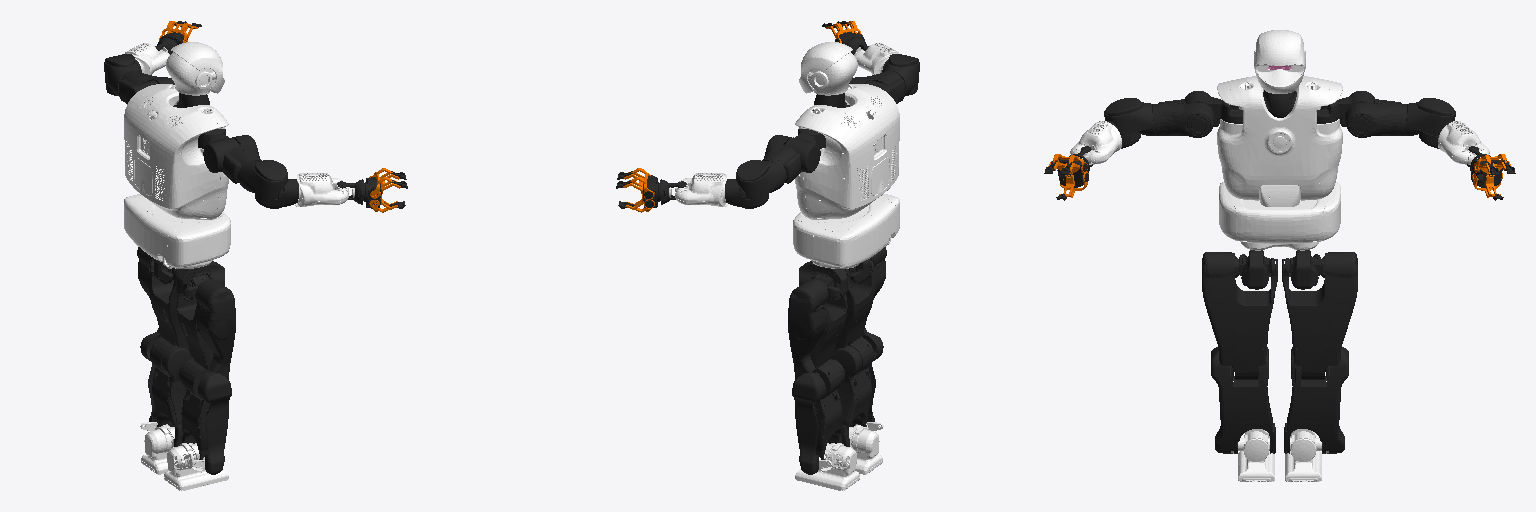
--- What the picture shows (computed from the rendered views, not written in the file) ---
Views: 3 orthographic renders of the robot side by side, from view 1: azimuth 30°, elevation 25°; view 2: azimuth 150°, elevation 25°; view 3: azimuth 270°, elevation 25°.
Robot: talos — 60 links, 59 joints (44 revolute, 15 fixed); root link base_link; default pose: joints at zero except 4 at the middle of their limits (arm_left_2_joint = 1.44, arm_left_4_joint = -1.12, arm_right_2_joint = -1.44, arm_right_4_joint = -1.12).
Links seen in each view (by area): view 1: torso_2_link, base_link, leg_right_3_link, leg_right_4_link, leg_left_4_link, leg_left_3_link, head_2_link, leg_right_6_link, arm_right_3_link, arm_right_5_link, arm_right_1_link, leg_left_6_link (+6 smaller); view 2: torso_2_link, base_link, leg_left_3_link, leg_left_4_link, leg_right_4_link, leg_right_3_link, head_2_link, leg_left_6_link, arm_left_3_link, arm_left_5_link, arm_left_1_link, leg_right_6_link (+6 smaller); view 3: torso_2_link, leg_right_3_link, leg_left_3_link, base_link, leg_left_4_link, leg_right_4_link, head_2_link, arm_left_2_link, arm_right_2_link, arm_left_3_link, arm_right_3_link, leg_left_6_link (+9 smaller).
Link boxes in pixels (x1,y1,x2,y2): torso_2_link: (124, 84, 228, 219); base_link: (124, 194, 230, 268); leg_right_3_link: (176, 279, 235, 398); leg_right_4_link: (179, 358, 231, 474); leg_left_4_link: (140, 332, 192, 446); leg_left_3_link: (137, 247, 189, 374); head_2_link: (166, 42, 224, 95); leg_right_6_link: (164, 443, 228, 490); arm_right_3_link: (239, 160, 287, 199); arm_right_5_link: (295, 173, 348, 206); arm_right_1_link: (198, 129, 238, 172); leg_left_6_link: (141, 426, 171, 474); torso_2_link: (795, 84, 899, 219); base_link: (793, 194, 899, 268); leg_left_3_link: (788, 279, 847, 398); leg_left_4_link: (792, 358, 844, 474); leg_right_4_link: (831, 332, 883, 446); leg_right_3_link: (835, 247, 886, 374); head_2_link: (799, 42, 857, 95); leg_left_6_link: (795, 443, 859, 490); arm_left_3_link: (736, 160, 784, 198); arm_left_5_link: (675, 173, 728, 206); arm_left_1_link: (785, 129, 825, 172); leg_right_6_link: (852, 426, 882, 474); torso_2_link: (1217, 76, 1342, 200); leg_right_3_link: (1202, 252, 1277, 379); leg_left_3_link: (1282, 252, 1357, 379); base_link: (1219, 182, 1340, 250); leg_left_4_link: (1284, 347, 1348, 453); leg_right_4_link: (1211, 347, 1275, 453); head_2_link: (1254, 30, 1305, 93); arm_left_2_link: (1345, 99, 1406, 137); arm_right_2_link: (1153, 99, 1214, 137); arm_left_3_link: (1404, 98, 1455, 135); arm_right_3_link: (1104, 98, 1155, 135); leg_left_6_link: (1285, 429, 1321, 481).
Size in the robot's own frame: 0.7079 by 1.7 by 1.76 metres.
Meshes: 25 distinct files referenced, 48 mesh visuals loaded (25 Collada DAE).

The robot description file, URDF, robot "talos":
<?xml version="1.0" encoding="utf-8"?>
<!-- =================================================================================== -->
<!-- |    This document was autogenerated by xacro from talos_full_v2.urdf.xacro       | -->
<!-- |    EDITING THIS FILE BY HAND IS NOT RECOMMENDED                                 | -->
<!-- =================================================================================== -->
<!--

  Copyright (c) 2016, PAL Robotics, S.L.
  All rights reserved.

  This work is licensed under the Creative Commons Attribution-NonCommercial-NoDerivs 3.0 Unported License.
  To view a copy of this license, visit http://creativecommons.org/licenses/by-nc-nd/3.0/ or send a letter to
  Creative Commons, 444 Castro Street, Suite 900, Mountain View, California, 94041, USA.
-->
<robot name="talos" xmlns:controller="http://playerstage.sourceforge.net/gazebo/xmlschema/#controller" xmlns:interface="http://playerstage.sourceforge.net/gazebo/xmlschema/#interface" xmlns:sensor="http://playerstage.sourceforge.net/gazebo/xmlschema/#sensor">
  <!--************************-->
  <!--        TORSO_2  (TILT) -->
  <!--************************-->
  <link name="torso_2_link">
    <inertial>
      <mass value="16.97403"/>
      <inertia ixx="0.44372633826" ixy="0.00069132133" ixz="-0.01218206353" iyy="0.2998576068" iyz="-0.00019623338" izz="0.32201554742"/>
      <origin rpy="0 0 0" xyz="-0.0463563 -0.00099023 0.1452805"/>
    </inertial>
    <visual>
      <origin rpy="0 0 0" xyz="0 0 0"/>
      <geometry>
        <mesh filename="package://talos_description/meshes/torso/torso_2.dae" scale="1 1 1"/>
      </geometry>
      <material name="White"/>
    </visual>
    <collision>
      <origin rpy="0 0 0" xyz="0 0 0"/>
      <geometry>
        <mesh filename="package://talos_description/meshes/torso/torso_2_collision.dae" scale="1 1 1"/>
      </geometry>
    </collision>
  </link>
  <!--************************-->
  <!--        TORSO_1  (PAN)  -->
  <!--************************-->
  <link name="torso_1_link">
    <inertial>
      <mass value="2.294658"/>
      <inertia ixx="0.00638508087" ixy="-7.107e-08" ixz="-3.065592e-05" iyy="0.00410256102" iyz="-1.46946e-06" izz="0.00622968815"/>
      <origin rpy="0 0 0" xyz="0.00078223 3.528e-05 -0.01782457"/>
    </inertial>
    <visual>
      <origin rpy="0 0 0" xyz="0 0 0"/>
      <geometry>
        <mesh filename="package://talos_description/meshes/torso/torso_1.dae" scale="1 1 1"/>
      </geometry>
      <material name="White"/>
    </visual>
    <collision>
      <origin rpy="0 0 0" xyz="0 0 0"/>
      <geometry>
        <mesh filename="package://talos_description/meshes/torso/torso_1.dae" scale="1 1 1"/>
      </geometry>
    </collision>
  </link>
  <joint name="torso_1_joint" type="revolute">
    <parent link="base_link"/>
    <child link="torso_1_link"/>
    <!-- XXX AS: The kinematic chain order for the torso was reversed manually. This value does not match the CAD model. XXX -->
    <origin rpy="0.0 0.0 0.0" xyz="0.0 0.0 0.0722"/>
    <axis xyz="0 0 1"/>
    <limit effort="200.0" lower="-1.25663706144" upper="1.25663706144" velocity="5.4"/>
    <dynamics damping="1.0" friction="1.0"/>
    <!-- <safety_controller k_position="20"
                         k_velocity="20"
                         soft_lower_limit="${-15.0 * deg_to_rad + torso_eps}"
                         soft_upper_limit="${ 45.0 * deg_to_rad - torso_eps}" /> -->
  </joint>
  <!--************************-->
  <!--        BASE_LINK       -->
  <!--************************-->
  <link name="base_link">
    <inertial>
      <mass value="15.36284"/>
      <inertia ixx="0.20105075811" ixy="0.00023244734" ixz="0.0040167728" iyy="0.08411496729" iyz="-0.00087206649" izz="0.2318908414"/>
      <origin rpy="0 0 0" xyz="-0.05709419 0.00153054 -0.0762521"/>
    </inertial>
    <visual>
      <origin rpy="0 0 0" xyz="0 0 0"/>
      <geometry>
        <mesh filename="package://talos_description/meshes/torso/base_link.dae" scale="1 1 1"/>
      </geometry>
      <material name="White"/>
    </visual>
    <collision>
      <origin rpy="0 0 0" xyz="0 0 0"/>
      <geometry>
        <mesh filename="package://talos_description/meshes/torso/base_link_collision.dae" scale="1 1 1"/>
      </geometry>
    </collision>
  </link>
  <joint name="torso_2_joint" type="revolute">
    <parent link="torso_1_link"/>
    <child link="torso_2_link"/>
    <origin rpy="0.0 0.0 0.0" xyz="0.0 0.0 0.0"/>
    <axis xyz="0 1 0"/>
    <limit effort="200.0" lower="-0.226892802759" upper="0.733038285838" velocity="5.4"/>
    <dynamics damping="1.0" friction="1.0"/>
    <!-- <safety_controller k_position="20"
                          k_velocity="20"
                          soft_lower_limit="${-75.00000 * deg_to_rad + eps_radians}"
                          soft_upper_limit="${75.00000 * deg_to_rad - eps_radians}" /> -->
  </joint>
  <link name="imu_link">
    <inertial>
      <mass value="0.01"/>
      <inertia ixx="1e-06" ixy="0" ixz="0" iyy="1e-06" iyz="0" izz="1e-06"/>
      <origin rpy="0 0 0" xyz="0 0 0"/>
    </inertial>
    <visual>
      <origin rpy="0 0 0" xyz="0 0 0"/>
      <geometry>
        <box size="0.01 0.01 0.01"/>
      </geometry>
      <material name="White"/>
      <!-- Not sure about this -->
    </visual>
  </link>
  <joint name="imu_joint" type="fixed">
    <origin rpy="3.14159265359 0 1.57079632679" xyz="0.04925 0 0.078"/>
    <parent link="torso_2_link"/>
    <child link="imu_link"/>
  </joint>
  <link name="head_1_link">
    <inertial>
      <mass value="0.73746"/>
      <inertia ixx="0.00224878584" ixy="4.69375e-06" ixz="8.55557e-05" iyy="0.00111158492" iyz="-4.132536e-05" izz="0.00205225921"/>
      <origin rpy="0 0 0" xyz="-0.00157211 -0.00157919 0.02175767"/>
    </inertial>
    <visual>
      <origin rpy="0 0 0" xyz="0 0 0"/>
      <geometry>
        <mesh filename="package://talos_description/meshes/head/head_1.dae" scale="1 1 1"/>
      </geometry>
      <material name="DarkGrey"/>
    </visual>
    <collision>
      <origin rpy="0 0 0" xyz="0 0 0"/>
      <geometry>
        <mesh filename="package://talos_description/meshes/head/head_1_collision.dae" scale="1 1 1"/>
      </geometry>
    </collision>
  </link>
  <joint name="head_1_joint" type="revolute">
    <parent link="torso_2_link"/>
    <child link="head_1_link"/>
    <origin rpy="0.0 0.0 0.0" xyz="0.02000 0.00000 0.32100"/>
    <axis xyz="0 1 0"/>
    <limit effort="8.0" lower="-0.209439510239" upper="0.785398163397" velocity="3.0"/>
    <dynamics damping="0.5" friction="1.0"/>
    <!-- <safety_controller k_position="20"
                          k_velocity="20"
                          soft_lower_limit="${-15.00000 * deg_to_rad + eps_radians}"
                          soft_upper_limit="${45.00000 * deg_to_rad - eps_radians}" /> -->
  </joint>
  <link name="head_2_link">
    <inertial>
      <mass value="1.443954"/>
      <inertia ixx="0.01084624339" ixy="1.050889e-05" ixz="0.00041594252" iyy="0.0109569176" iyz="2.367831e-05" izz="0.00571698895"/>
      <origin rpy="0 0 0" xyz="0.01002657 5.218e-05 0.14136068"/>
    </inertial>
    <visual>
      <origin rpy="0 0 0" xyz="0 0 0"/>
      <geometry>
        <mesh filename="package://talos_description/meshes/head/head_2.dae" scale="1 1 1"/>
      </geometry>
      <material name="White"/>
    </visual>
    <collision>
      <origin rpy="0 0 0" xyz="0 0 0"/>
      <geometry>
        <mesh filename="package://talos_description/meshes/head/head_2_collision.dae" scale="1 1 1"/>
      </geometry>
    </collision>
  </link>
  <joint name="head_2_joint" type="revolute">
    <parent link="head_1_link"/>
    <child link="head_2_link"/>
    <origin rpy="0.0 0.0 0.0" xyz="0.00000 0.00000 0.00000"/>
    <axis xyz="0 0 1"/>
    <limit effort="4.0" lower="-1.308996939" upper="1.308996939" velocity="3.0"/>
    <dynamics damping="0.5" friction="1.0"/>
    <!-- <safety_controller k_position="20"
                          k_velocity="20"
                          soft_lower_limit="${-75.00000 * deg_to_rad + eps_radians}"
                          soft_upper_limit="${75.00000 * deg_to_rad - eps_radians}" /> -->
  </joint>
  <!-- frames in the center of the camera -->
  <joint name="rgbd_joint" type="fixed">
    <origin rpy="0.0 0.0 0.0" xyz="0.066 0.0 0.1982"/>
    <axis xyz="0 0 1"/>
    <!-- <limit lower="0" upper="0.001" effort="100" velocity="0.01"/> -->
    <parent link="head_2_link"/>
    <child link="rgbd_link"/>
  </joint>
  <link name="rgbd_link">
    <inertial>
      <mass value="0.01"/>
      <inertia ixx="3e-05" ixy="0" ixz="0" iyy="2e-06" iyz="0" izz="3e-05"/>
      <origin rpy="0 0 0" xyz="-0.01 0.0025 0"/>
    </inertial>
    <visual>
      <origin rpy="0 0 0" xyz="0 0 0"/>
      <geometry>
        <mesh filename="package://talos_description/meshes/sensors/orbbec/orbbec.dae"/>
      </geometry>
    </visual>
    <collision>
      <origin rpy="0 0 0" xyz="-0.01 0.0025 0"/>
      <geometry>
        <box size="0.04 0.185 0.03"/>
      </geometry>
    </collision>
  </link>
  <joint name="rgbd_optical_joint" type="fixed">
    <origin rpy="-1.57079632679 0 -1.57079632679" xyz="0 0 0"/>
    <parent link="rgbd_link"/>
    <child link="rgbd_optical_frame"/>
  </joint>
  <link name="rgbd_optical_frame">
    <inertial>
      <mass value="0.01"/>
      <inertia ixx="1e-06" ixy="0" ixz="0" iyy="1e-06" iyz="0" izz="1e-06"/>
      <origin rpy="0 0 0" xyz="0 0 0"/>
    </inertial>
  </link>
  <!-- frames of the depth sensor -->
  <joint name="rgbd_depth_joint" type="fixed">
    <origin rpy="0 0 0" xyz="0.0 0.03751 0.0"/>
    <parent link="rgbd_link"/>
    <child link="rgbd_depth_frame"/>
  </joint>
  <link name="rgbd_depth_frame">
    <inertial>
      <mass value="0.01"/>
      <inertia ixx="1e-06" ixy="0" ixz="0" iyy="1e-06" iyz="0" izz="1e-06"/>
      <origin rpy="0 0 0" xyz="0 0 0"/>
    </inertial>
  </link>
  <joint name="rgbd_depth_optical_joint" type="fixed">
    <origin rpy="-1.57079632679 0.0 -1.57079632679" xyz="0 0 0"/>
    <parent link="rgbd_depth_frame"/>
    <child link="rgbd_depth_optical_frame"/>
  </joint>
  <link name="rgbd_depth_optical_frame">
    <inertial>
      <mass value="0.01"/>
      <inertia ixx="1e-06" ixy="0" ixz="0" iyy="1e-06" iyz="0" izz="1e-06"/>
      <origin rpy="0 0 0" xyz="0 0 0"/>
    </inertial>
  </link>
  <!-- frames of the rgb sensor -->
  <joint name="rgbd_rgb_joint" type="fixed">
    <origin rpy="0 0 0" xyz="0.0 0.01251 0.0"/>
    <parent link="rgbd_link"/>
    <child link="rgbd_rgb_frame"/>
  </joint>
  <link name="rgbd_rgb_frame">
    <inertial>
      <mass value="0.01"/>
      <inertia ixx="1e-06" ixy="0" ixz="0" iyy="1e-06" iyz="0" izz="1e-06"/>
      <origin rpy="0 0 0" xyz="0 0 0"/>
    </inertial>
  </link>
  <joint name="rgbd_rgb_optical_joint" type="fixed">
    <origin rpy="-1.57079632679 0.0 -1.57079632679" xyz="0 0 0"/>
    <parent link="rgbd_rgb_frame"/>
    <child link="rgbd_rgb_optical_frame"/>
  </joint>
  <link name="rgbd_rgb_optical_frame">
    <inertial>
      <mass value="0.01"/>
      <inertia ixx="1e-06" ixy="0" ixz="0" iyy="1e-06" iyz="0" izz="1e-06"/>
      <origin rpy="0 0 0" xyz="0 0 0"/>
    </inertial>
  </link>
  <!--************************-->
  <!--        SHOULDER        -->
  <!--************************-->
  <link name="arm_left_1_link">
    <inertial>
      <mass value="2.714567"/>
      <inertia ixx="0.01237818683" ixy="-3.625571e-05" ixz="7.14472e-05" iyy="0.004191372" iyz="-0.00023639064" izz="0.01358161109"/>
      <origin rpy="0 0 0" xyz="-0.0002762 0.10060223 0.04437419"/>
    </inertial>
    <visual>
      <origin rpy="0 0 0" xyz="0 0 0"/>
      <geometry>
        <mesh filename="package://talos_description/meshes/arm/arm_1.dae" scale="1 1 1"/>
      </geometry>
      <material name="DarkGrey"/>
    </visual>
    <collision>
      <origin rpy="0 0 0" xyz="0 0 0"/>
      <geometry>
        <mesh filename="package://talos_description/meshes/arm/arm_1_collision.dae" scale="1 1 1"/>
      </geometry>
    </collision>
  </link>
  <joint name="arm_left_1_joint" type="revolute">
    <parent link="torso_2_link"/>
    <child link="arm_left_1_link"/>
    <origin rpy="0.0 0.0 0.0" xyz="0.00000 0.1575 0.23200"/>
    <axis xyz="0 0 1"/>
    <!-- v1 TALOS has 1st arm left joint (-90,30) and right joint (-30,90) -->
    <!-- v2 TALOS has 1st arm left joint (-90,50) and right joint (-50,90) -->
    <limit effort="100.0" lower="-1.57079632679" upper="0.785398163397" velocity="2.7"/>
    <dynamics damping="1.0" friction="1.0"/>
    <!--        <safety_controller k_position="20"
                          k_velocity="20"
                          soft_lower_limit="${-90.00000 * deg_to_rad + arm_eps}"
                          soft_upper_limit="${30.00000 * deg_to_rad - arm_eps}" /> -->
  </joint>
  <link name="arm_left_2_link">
    <inertial>
      <mass value="2.425086"/>
      <inertia ixx="0.01297822101" ixy="1.208791e-05" ixz="-0.00320370433" iyy="0.01380870278" iyz="-0.00012770059" izz="0.00478856621"/>
      <origin rpy="0 0 0" xyz="0.01438831 0.00092938 -0.08684268"/>
    </inertial>
    <visual>
      <origin rpy="0 0 0" xyz="0 0 0"/>
      <geometry>
        <mesh filename="package://talos_description/meshes/arm/arm_2.dae" scale="1 1 1"/>
      </geometry>
      <material name="DarkGrey"/>
    </visual>
    <collision>
      <origin rpy="0 0 0" xyz="0 0 0"/>
      <geometry>
        <mesh filename="package://talos_description/meshes/arm/arm_2_collision.dae" scale="1 1 1"/>
      </geometry>
    </collision>
  </link>
  <joint name="arm_left_2_joint" type="revolute">
    <parent link="arm_left_1_link"/>
    <child link="arm_left_2_link"/>
    <origin rpy="0.0 0.0 0.0" xyz="0.00493 0.1365 0.04673"/>
    <axis xyz="1 0 0"/>
    <limit effort="100.0" lower="0.00872664625997" upper="2.87106661953" velocity="3.66"/>
    <dynamics damping="1.0" friction="1.0"/>
    <!--        <safety_controller k_position="20"
                          k_velocity="20"
                          soft_lower_limit="${0.00000 * deg_to_rad + arm_eps}"
                          soft_upper_limit="${165.00000 * deg_to_rad - arm_eps}" /> -->
  </joint>
  <link name="arm_left_3_link">
    <inertial>
      <mass value="2.208741"/>
      <inertia ixx="0.00718831493" ixy="-0.00011563551" ixz="0.00075969733" iyy="0.00693528503" iyz="0.00042134743" izz="0.00388359007"/>
      <origin rpy="0 0 0" xyz="0.0136084 0.01241619 -0.2499004"/>
    </inertial>
    <visual>
      <origin rpy="0 0 0" xyz="0 0 0"/>
      <geometry>
        <mesh filename="package://talos_description/meshes/arm/arm_3.dae" scale="1 1 1"/>
      </geometry>
      <material name="DarkGrey"/>
    </visual>
    <collision>
      <origin rpy="0 0 0" xyz="0 0 0"/>
      <geometry>
        <mesh filename="package://talos_description/meshes/arm/arm_3_collision.dae" scale="1 1 1"/>
      </geometry>
    </collision>
  </link>
  <joint name="arm_left_3_joint" type="revolute">
    <parent link="arm_left_2_link"/>
    <child link="arm_left_3_link"/>
    <origin rpy="0.0 0.0 0.0" xyz="0.00000 0.00000 0.00000"/>
    <axis xyz="0 0 1"/>
    <limit effort="70.0" lower="-2.42600766027" upper="2.42600766027" velocity="4.58"/>
    <dynamics damping="1.0" friction="1.0"/>
    <!--       <safety_controller k_position="20"
                          k_velocity="20"
                          soft_lower_limit="${-140.0 * deg_to_rad + arm_eps}"
                          soft_upper_limit="${140.0 * deg_to_rad - arm_eps}" /> -->
  </joint>
  <!--************************-->
  <!--        ELBOW           -->
  <!--************************-->
  <link name="arm_left_4_link">
    <inertial>
      <mass value="0.877346"/>
      <inertia ixx="0.00251207716" ixy="0.00010070062" ixz="-0.00032788214" iyy="0.00275869324" iyz="0.00040022227" izz="0.00120735959"/>
      <origin rpy="0 0 0" xyz="-0.00742138 -0.0213895 -0.03312656"/>
    </inertial>
    <visual>
      <origin rpy="0 0 0" xyz="0 0 0"/>
      <geometry>
        <mesh filename="package://talos_description/meshes/arm/arm_4.dae" scale="1 1 1"/>
      </geometry>
      <material name="DarkGrey"/>
    </visual>
    <collision>
      <origin rpy="0 0 0" xyz="0 0 0"/>
      <geometry>
        <mesh filename="package://talos_description/meshes/arm/arm_4_collision.dae" scale="1 1 1"/>
      </geometry>
    </collision>
  </link>
  <joint name="arm_left_4_joint" type="revolute">
    <parent link="arm_left_3_link"/>
    <child link="arm_left_4_link"/>
    <origin rpy="0.0 0.0 0.0" xyz="0.02000 0.00000 -0.27300"/>
    <axis xyz="0 1 0"/>
    <limit effort="70.0" lower="-2.23402144255" upper="-0.00349065850399" velocity="4.58"/>
    <dynamics damping="1.0" friction="1.0"/>
    <!--       <safety_controller k_position="20"
                          k_velocity="20"
                          soft_lower_limit="${-135.0 * deg_to_rad + arm_eps}"
                          soft_upper_limit="${0.0 * deg_to_rad - arm_eps}" /> -->
  </joint>
  <!--************************-->
  <!--        WRIST           -->
  <!--************************-->
  <link name="arm_left_5_link">
    <inertial>
      <mass value="1.877923"/>
      <inertia ixx="0.00349507283" ixy="1.265489e-05" ixz="1.038286e-05" iyy="0.00436830072" iyz="-9.736042e-05" izz="0.0022826337"/>
      <origin rpy="0 0 0" xyz="-6e-05 0.003262 0.079625"/>
    </inertial>
    <visual>
      <origin rpy="0 0 0" xyz="0 0 0"/>
      <geometry>
        <mesh filename="package://talos_description/meshes/arm/arm_5.dae" scale="1 1 1"/>
      </geometry>
      <material name="White"/>
    </visual>
    <collision>
      <origin rpy="0 0 0" xyz="0 0 0"/>
      <geometry>
        <mesh filename="package://talos_description/meshes/arm/arm_5_collision.dae" scale="1 1 1"/>
      </geometry>
    </collision>
  </link>
  <joint name="arm_left_5_joint" type="revolute">
    <parent link="arm_left_4_link"/>
    <child link="arm_left_5_link"/>
    <origin rpy="0.0 0.0 0.0" xyz="-0.02000 0.00000 -0.26430"/>
    <axis xyz="0 0 1"/>
    <limit effort="20.0" lower="-2.51327412287" upper="2.51327412287" velocity="1.95"/>
    <dynamics damping="1.0" friction="1.0"/>
    <!--       <safety_controller k_position="20"
                          k_velocity="20"
                          soft_lower_limit="${-145.00000 * deg_to_rad + wrist_eps}"
                          soft_upper_limit="${145.00000 * deg_to_rad - wrist_eps}" /> -->
  </joint>
  <link name="arm_left_6_link">
    <inertial>
      <mass value="0.40931"/>
      <inertia ixx="0.00010700023" ixy="-8.899e-08" ixz="-4.392e-08" iyy="0.00014101316" iyz="4.1702e-07" izz="0.00015398658"/>
      <origin rpy="0 0 0" xyz="2.1e-05 -0.001965 -0.000591"/>
    </inertial>
    <visual>
      <origin rpy="0 0 0" xyz="0 0 0"/>
      <geometry>
        <mesh filename="package://talos_description/meshes/arm/arm_6.dae" scale="1 1 1"/>
      </geometry>
      <material name="White"/>
    </visual>
    <collision>
      <origin rpy="0 0 0" xyz="0 0 0"/>
      <geometry>
        <mesh filename="package://talos_description/meshes/arm/arm_6_collision.dae" scale="1 1 1"/>
      </geometry>
    </collision>
  </link>
  <joint name="arm_left_6_joint" type="revolute">
    <parent link="arm_left_5_link"/>
    <child link="arm_left_6_link"/>
    <origin rpy="0.0 0.0 0.0" xyz="0.00000 0.00000 0.00000"/>
    <axis xyz="1 0 0"/>
    <limit effort="8.0" lower="-1.37008346282" upper="1.37008346282" velocity="1.76"/>
    <dynamics damping="1.0" friction="1.0"/>
    <!--       <safety_controller k_position="20"
                          k_velocity="20"
                          soft_lower_limit="${-80.00000 * deg_to_rad + eps_radians}"
                          soft_upper_limit="${80.00000 * deg_to_rad - eps_radians}" /> -->
  </joint>
  <link name="arm_left_7_link">
    <inertial>
      <mass value="0.308441"/>
      <inertia ixx="0.00030894317" ixy="-1.58687e-06" ixz="1.73418e-06" iyy="0.00021886181" iyz="-1.221167e-05" izz="0.00017519492"/>
      <origin rpy="0 0 0" xyz="0.007525 0.001378 -0.02463"/>
    </inertial>
    <visual>
      <origin rpy="0 0 0" xyz="0 0 0"/>
      <geometry>
        <mesh filename="package://talos_description/meshes/arm/arm_7.dae" scale="1 1 1"/>
      </geometry>
      <material name="DarkGrey"/>
    </visual>
    <collision>
      <origin rpy="0 0 0" xyz="0 0 0"/>
      <geometry>
        <mesh filename="package://talos_description/meshes/arm/arm_7_collision.dae" scale="1 1 1"/>
      </geometry>
    </collision>
  </link>
  <joint name="arm_left_7_joint" type="revolute">
    <parent link="arm_left_6_link"/>
    <child link="arm_left_7_link"/>
    <origin rpy="0.0 0.0 0.0" xyz="0.0 0.0 0.0"/>
    <axis xyz="0 1 0"/>
    <limit effort="8.0" lower="-0.680678408278" upper="0.680678408278" velocity="1.76"/>
    <dynamics damping="1.0" friction="1.0"/>
    <!--       <safety_controller k_position="20"
                          k_velocity="20"
                          soft_lower_limit="${-40.00000 * deg_to_rad + eps_radians}"
                          soft_upper_limit="${40.00000 * deg_to_rad - eps_radians}" /> -->
  </joint>
  <!--************************-->
  <!--        SHOULDER        -->
  <!--************************-->
  <link name="arm_right_1_link">
    <inertial>
      <mass value="2.714567"/>
      <inertia ixx="0.01237818683" ixy="3.625571e-05" ixz="7.14472e-05" iyy="0.004191372" iyz="0.00023639064" izz="0.01358161109"/>
      <origin rpy="0 0 0" xyz="-0.0002762 -0.10060223 0.04437419"/>
    </inertial>
    <visual>
      <origin rpy="0 0 0" xyz="0 0 0"/>
      <geometry>
        <mesh filename="package://talos_description/meshes/arm/arm_1.dae" scale="1 -1 1"/>
      </geometry>
      <material name="DarkGrey"/>
    </visual>
    <collision>
      <origin rpy="0 0 0" xyz="0 0 0"/>
      <geometry>
        <mesh filename="package://talos_description/meshes/arm/arm_1_collision.dae" scale="1 -1 1"/>
      </geometry>
    </collision>
  </link>
  <joint name="arm_right_1_joint" type="revolute">
    <parent link="torso_2_link"/>
    <child link="arm_right_1_link"/>
    <origin rpy="0.0 0.0 0.0" xyz="0.00000 -0.1575 0.23200"/>
    <axis xyz="0 0 1"/>
    <!-- v1 TALOS has 1st arm left joint (-90,30) and right joint (-30,90) -->
    <!-- v2 TALOS has 1st arm left joint (-90,50) and right joint (-50,90) -->
    <limit effort="100.0" lower="-0.785398163397" upper="1.57079632679" velocity="2.7"/>
    <dynamics damping="1.0" friction="1.0"/>
    <!--        <safety_controller k_position="20"
                          k_velocity="20"
                          soft_lower_limit="${-90.00000 * deg_to_rad + arm_eps}"
                          soft_upper_limit="${30.00000 * deg_to_rad - arm_eps}" /> -->
  </joint>
  <link name="arm_right_2_link">
    <inertial>
      <mass value="2.425086"/>
      <inertia ixx="0.01297822101" ixy="-1.208791e-05" ixz="-0.00320370433" iyy="0.01380870278" iyz="0.00012770059" izz="0.00478856621"/>
      <origin rpy="0 0 0" xyz="0.01438831 -0.00092938 -0.08684268"/>
    </inertial>
    <visual>
      <origin rpy="0 0 0" xyz="0 0 0"/>
      <geometry>
        <mesh filename="package://talos_description/meshes/arm/arm_2.dae" scale="1 -1 1"/>
      </geometry>
      <material name="DarkGrey"/>
    </visual>
    <collision>
      <origin rpy="0 0 0" xyz="0 0 0"/>
      <geometry>
        <mesh filename="package://talos_description/meshes/arm/arm_2_collision.dae" scale="1 -1 1"/>
      </geometry>
    </collision>
  </link>
  <joint name="arm_right_2_joint" type="revolute">
    <parent link="arm_right_1_link"/>
    <child link="arm_right_2_link"/>
    <origin rpy="0.0 0.0 0.0" xyz="0.00493 -0.1365 0.04673"/>
    <axis xyz="1 0 0"/>
    <limit effort="100.0" lower="-2.87106661953" upper="-0.00872664625997" velocity="3.66"/>
    <dynamics damping="1.0" friction="1.0"/>
    <!--        <safety_controller k_position="20"
                          k_velocity="20"
                          soft_lower_limit="${0.00000 * deg_to_rad + arm_eps}"
                          soft_upper_limit="${165.00000 * deg_to_rad - arm_eps}" /> -->
  </joint>
  <link name="arm_right_3_link">
    <inertial>
      <mass value="2.208741"/>
      <inertia ixx="0.00718831493" ixy="0.00011563551" ixz="0.00075969733" iyy="0.00693528503" iyz="-0.00042134743" izz="0.00388359007"/>
      <origin rpy="0 0 0" xyz="0.0136084 -0.01241619 -0.2499004"/>
    </inertial>
    <visual>
      <origin rpy="0 0 0" xyz="0 0 0"/>
      <geometry>
        <mesh filename="package://talos_description/meshes/arm/arm_3.dae" scale="1 -1 1"/>
      </geometry>
      <material name="DarkGrey"/>
    </visual>
    <collision>
      <origin rpy="0 0 0" xyz="0 0 0"/>
      <geometry>
        <mesh filename="package://talos_description/meshes/arm/arm_3_collision.dae" scale="1 -1 1"/>
      </geometry>
    </collision>
  </link>
  <joint name="arm_right_3_joint" type="revolute">
    <parent link="arm_right_2_link"/>
    <child link="arm_right_3_link"/>
    <origin rpy="0.0 0.0 0.0" xyz="0.00000 0.00000 0.00000"/>
    <axis xyz="0 0 1"/>
    <limit effort="70.0" lower="-2.42600766027" upper="2.42600766027" velocity="4.58"/>
    <dynamics damping="1.0" friction="1.0"/>
    <!--       <safety_controller k_position="20"
                          k_velocity="20"
                          soft_lower_limit="${-140.0 * deg_to_rad + arm_eps}"
                          soft_upper_limit="${140.0 * deg_to_rad - arm_eps}" /> -->
  </joint>
  <!--************************-->
  <!--        ELBOW           -->
  <!--************************-->
  <link name="arm_right_4_link">
    <inertial>
      <mass value="0.877346"/>
      <inertia ixx="0.00251207716" ixy="-0.00010070062" ixz="-0.00032788214" iyy="0.00275869324" iyz="-0.00040022227" izz="0.00120735959"/>
      <origin rpy="0 0 0" xyz="-0.00742138 0.0213895 -0.03312656"/>
    </inertial>
    <visual>
      <origin rpy="0 0 0" xyz="0 0 0"/>
      <geometry>
        <mesh filename="package://talos_description/meshes/arm/arm_4.dae" scale="1 -1 1"/>
      </geometry>
      <material name="DarkGrey"/>
    </visual>
    <collision>
      <origin rpy="0 0 0" xyz="0 0 0"/>
      <geometry>
        <mesh filename="package://talos_description/meshes/arm/arm_4_collision.dae" scale="1 -1 1"/>
      </geometry>
    </collision>
  </link>
  <joint name="arm_right_4_joint" type="revolute">
    <parent link="arm_right_3_link"/>
    <child link="arm_right_4_link"/>
    <origin rpy="0.0 0.0 0.0" xyz="0.02000 0.00000 -0.27300"/>
    <axis xyz="0 1 0"/>
    <limit effort="70.0" lower="-2.23402144255" upper="-0.00349065850399" velocity="4.58"/>
    <dynamics damping="1.0" friction="1.0"/>
    <!--       <safety_controller k_position="20"
                          k_velocity="20"
                          soft_lower_limit="${-135.0 * deg_to_rad + arm_eps}"
                          soft_upper_limit="${0.0 * deg_to_rad - arm_eps}" /> -->
  </joint>
  <!--************************-->
  <!--        WRIST           -->
  <!--************************-->
  <link name="arm_right_5_link">
    <inertial>
      <mass value="1.877923"/>
      <inertia ixx="0.00349507283" ixy="-1.265489e-05" ixz="1.038286e-05" iyy="0.00436830072" iyz="9.736042e-05" izz="0.0022826337"/>
      <origin rpy="0 0 0" xyz="-6e-05 -0.003262 0.079625"/>
    </inertial>
    <visual>
      <origin rpy="0 0 0" xyz="0 0 0"/>
      <geometry>
        <mesh filename="package://talos_description/meshes/arm/arm_5.dae" scale="1 -1 1"/>
      </geometry>
      <material name="White"/>
    </visual>
    <collision>
      <origin rpy="0 0 0" xyz="0 0 0"/>
      <geometry>
        <mesh filename="package://talos_description/meshes/arm/arm_5_collision.dae" scale="1 -1 1"/>
      </geometry>
    </collision>
  </link>
  <joint name="arm_right_5_joint" type="revolute">
    <parent link="arm_right_4_link"/>
    <child link="arm_right_5_link"/>
    <origin rpy="0.0 0.0 0.0" xyz="-0.02000 0.00000 -0.26430"/>
    <axis xyz="0 0 1"/>
    <limit effort="20.0" lower="-2.51327412287" upper="2.51327412287" velocity="1.95"/>
    <dynamics damping="1.0" friction="1.0"/>
    <!--       <safety_controller k_position="20"
                          k_velocity="20"
                          soft_lower_limit="${-145.00000 * deg_to_rad + wrist_eps}"
                          soft_upper_limit="${145.00000 * deg_to_rad - wrist_eps}" /> -->
  </joint>
  <link name="arm_right_6_link">
    <inertial>
      <mass value="0.40931"/>
      <inertia ixx="0.00010700023" ixy="8.899e-08" ixz="-4.392e-08" iyy="0.00014101316" iyz="-4.1702e-07" izz="0.00015398658"/>
      <origin rpy="0 0 0" xyz="2.1e-05 0.001965 -0.000591"/>
    </inertial>
    <visual>
      <origin rpy="0 0 0" xyz="0 0 0"/>
      <geometry>
        <mesh filename="package://talos_description/meshes/arm/arm_6.dae" scale="1 -1 1"/>
      </geometry>
      <material name="White"/>
    </visual>
    <collision>
      <origin rpy="0 0 0" xyz="0 0 0"/>
      <geometry>
        <mesh filename="package://talos_description/meshes/arm/arm_6_collision.dae" scale="1 -1 1"/>
      </geometry>
    </collision>
  </link>
  <joint name="arm_right_6_joint" type="revolute">
    <parent link="arm_right_5_link"/>
    <child link="arm_right_6_link"/>
    <origin rpy="0.0 0.0 0.0" xyz="0.00000 0.00000 0.00000"/>
    <axis xyz="1 0 0"/>
    <limit effort="8.0" lower="-1.37008346282" upper="1.37008346282" velocity="1.76"/>
    <dynamics damping="1.0" friction="1.0"/>
    <!--       <safety_controller k_position="20"
                          k_velocity="20"
                          soft_lower_limit="${-80.00000 * deg_to_rad + eps_radians}"
                          soft_upper_limit="${80.00000 * deg_to_rad - eps_radians}" /> -->
  </joint>
  <link name="arm_right_7_link">
    <inertial>
      <mass value="0.308441"/>
      <inertia ixx="0.00030894317" ixy="1.58687e-06" ixz="1.73418e-06" iyy="0.00021886181" iyz="1.221167e-05" izz="0.00017519492"/>
      <origin rpy="0 0 0" xyz="0.007525 -0.001378 -0.02463"/>
    </inertial>
    <visual>
      <origin rpy="0 0 0" xyz="0 0 0"/>
      <geometry>
        <mesh filename="package://talos_description/meshes/arm/arm_7.dae" scale="1 -1 1"/>
      </geometry>
      <material name="DarkGrey"/>
    </visual>
    <collision>
      <origin rpy="0 0 0" xyz="0 0 0"/>
      <geometry>
        <mesh filename="package://talos_description/meshes/arm/arm_7_collision.dae" scale="1 -1 1"/>
      </geometry>
    </collision>
  </link>
  <joint name="arm_right_7_joint" type="revolute">
    <parent link="arm_right_6_link"/>
    <child link="arm_right_7_link"/>
    <origin rpy="0.0 0.0 0.0" xyz="0.0 0.0 0.0"/>
    <axis xyz="0 1 0"/>
    <limit effort="8.0" lower="-0.680678408278" upper="0.680678408278" velocity="1.76"/>
    <dynamics damping="1.0" friction="1.0"/>
    <!--       <safety_controller k_position="20"
                          k_velocity="20"
                          soft_lower_limit="${-40.00000 * deg_to_rad + eps_radians}"
                          soft_upper_limit="${40.00000 * deg_to_rad - eps_radians}" /> -->
  </joint>
  <!--************************-->
  <!--        ft sensor       -->
  <!--************************-->
  <link name="wrist_right_ft_link">
    <inertial>
      <mass value="0.095"/>
      <inertia ixx="1.108502e-05" ixy="9.9077e-07" ixz="-2.3811e-07" iyy="1.092725e-05" iyz="2.3137e-07" izz="1.898772e-05"/>
      <origin rpy="0 0 0" xyz="-0.001001 0.000995 -0.008108"/>
    </inertial>
    <visual>
      <origin rpy="0 0 0" xyz="0 0 0"/>
      <geometry>
        <cylinder length="0.0157" radius="0.0225"/>
      </geometry>
      <material name="LightGrey"/>
    </visual>
    <collision>
      <origin rpy="0 0 0" xyz="0 0 0"/>
      <geometry>
        <cylinder length="0.0157" radius="0.0225"/>
      </geometry>
    </collision>
  </link>
  <joint name="wrist_right_ft_joint" type="fixed">
    <parent link="arm_right_7_link"/>
    <child link="wrist_right_ft_link"/>
    <origin rpy="0.0 0 -1.57079632679" xyz="0 0 -0.051"/>
  </joint>
  <!--***********************-->
  <!--       FT TOOL         -->
  <!--***********************-->
  <link name="wrist_right_ft_tool_link">
    <inertial>
      <mass value="0.001"/>
      <inertia ixx="1e-06" ixy="0" ixz="0" iyy="1e-06" iyz="0" izz="1e-06"/>
      <origin rpy="0 0 0" xyz="0 0 0"/>
    </inertial>
    <visual>
      <origin rpy="0 0.0 0" xyz="0.0 0 0"/>
      <geometry>
        <cylinder length="0.00975" radius="0.025"/>
      </geometry>
      <material name="DarkGrey"/>
    </visual>
    <collision>
      <origin rpy="0 0.0 0" xyz="0.0 0 0"/>
      <geometry>
        <cylinder length="0.00975" radius="0.025"/>
      </geometry>
    </collision>
  </link>
  <joint name="wrist_right_tool_joint" type="fixed">
    <parent link="wrist_right_ft_link"/>
    <child link="wrist_right_ft_tool_link"/>
    <origin rpy="0 0 -1.57079632679" xyz="0 0 -0.012725"/>
  </joint>
  <!--************************-->
  <!--        ft sensor       -->
  <!--************************-->
  <link name="wrist_left_ft_link">
    <inertial>
      <mass value="0.095"/>
      <inertia ixx="1.108502e-05" ixy="9.9077e-07" ixz="-2.3811e-07" iyy="1.092725e-05" iyz="2.3137e-07" izz="1.898772e-05"/>
      <origin rpy="0 0 0" xyz="-0.001001 0.000995 -0.008108"/>
    </inertial>
    <visual>
      <origin rpy="0 0 0" xyz="0 0 0"/>
      <geometry>
        <cylinder length="0.0157" radius="0.0225"/>
      </geometry>
      <material name="LightGrey"/>
    </visual>
    <collision>
      <origin rpy="0 0 0" xyz="0 0 0"/>
      <geometry>
        <cylinder length="0.0157" radius="0.0225"/>
      </geometry>
    </collision>
  </link>
  <joint name="wrist_left_ft_joint" type="fixed">
    <parent link="arm_left_7_link"/>
    <child link="wrist_left_ft_link"/>
    <origin rpy="0.0 0 -4.71238898038" xyz="0 0 -0.051"/>
  </joint>
  <!--***********************-->
  <!--       FT TOOL         -->
  <!--***********************-->
  <link name="wrist_left_ft_tool_link">
    <inertial>
      <mass value="0.001"/>
      <inertia ixx="1e-06" ixy="0" ixz="0" iyy="1e-06" iyz="0" izz="1e-06"/>
      <origin rpy="0 0 0" xyz="0 0 0"/>
    </inertial>
    <visual>
      <origin rpy="0 0.0 0" xyz="0.0 0 0"/>
      <geometry>
        <cylinder length="0.00975" radius="0.025"/>
      </geometry>
      <material name="DarkGrey"/>
    </visual>
    <collision>
      <origin rpy="0 0.0 0" xyz="0.0 0 0"/>
      <geometry>
        <cylinder length="0.00975" radius="0.025"/>
      </geometry>
    </collision>
  </link>
  <joint name="wrist_left_tool_joint" type="fixed">
    <parent link="wrist_left_ft_link"/>
    <child link="wrist_left_ft_tool_link"/>
    <origin rpy="0 0 4.71238898038" xyz="0 0 -0.012725"/>
  </joint>
  <link name="gripper_left_base_link">
    <inertial>
      <mass value="0.637534"/>
      <inertia ixx="0.0005849692" ixy="4.37159e-06" ixz="-1.2589e-05" iyy="0.00067076439" iyz="2.824361e-05" izz="0.00085526645"/>
      <origin rpy="0 0 0" xyz="2.8e-05 0.005394 -0.023654"/>
    </inertial>
    <visual>
      <origin rpy="0 0 0" xyz="0 0 0"/>
      <geometry>
        <mesh filename="package://talos_description/meshes/gripper/base_link.dae" scale="1 1 1"/>
      </geometry>
      <material name="DarkGrey"/>
    </visual>
    <collision>
      <origin rpy="0 0 0" xyz="0 0 0"/>
      <geometry>
        <mesh filename="package://talos_description/meshes/gripper/base_link_collision.dae" scale="1 1 1"/>
      </geometry>
    </collision>
  </link>
  <joint name="gripper_left_base_link_joint" type="fixed">
    <parent link="wrist_left_ft_tool_link"/>
    <child link="gripper_left_base_link"/>
    <origin rpy="0.0 0.0 0.0" xyz="0.00000 0.00000 -0.02875"/>
  </joint>
  <link name="gripper_left_motor_double_link">
    <inertial>
      <mass value="0.134356"/>
      <inertia ixx="0.00013479919" ixy="6.184429e-05" ixz="-3.0798e-05" iyy="0.00019602207" iyz="4.707722e-05" izz="0.00024217879"/>
      <origin rpy="0 0 0" xyz="0.019654 0.018572 -0.011998"/>
    </inertial>
    <visual>
      <origin rpy="0 0 0" xyz="0 0 0"/>
      <geometry>
        <mesh filename="package://talos_description/meshes/gripper/gripper_motor_double.dae" scale="1 1 1"/>
      </geometry>
      <material name="Orange"/>
    </visual>
    <collision>
      <origin rpy="0 0 0" xyz="0 0 0"/>
      <geometry>
        <mesh filename="package://talos_description/meshes/gripper/gripper_motor_double_collision.dae" scale="1 1 1"/>
      </geometry>
    </collision>
  </link>
  <joint name="gripper_left_joint" type="revolute">
    <parent link="gripper_left_base_link"/>
    <child link="gripper_left_motor_double_link"/>
    <origin rpy="0.0 0.0 0.0" xyz="0.0 0.02025 -0.03"/>
    <axis xyz="1 0 0"/>
    <limit effort="1.0" lower="-0.959931088597" upper="0.0" velocity="1.0"/>
    <dynamics damping="1.0" friction="1.0"/>
  </joint>
  <link name="gripper_left_inner_double_link">
    <inertial>
      <mass value="0.087986"/>
      <inertia ixx="7.410642e-05" ixy="-7.4773e-07" ixz="1.01536e-06" iyy="0.0001279418" iyz="2.504083e-05" izz="0.00010495175"/>
      <origin rpy="0 0 0" xyz="-0.013283 0.036852 -0.023153"/>
    </inertial>
    <visual>
      <origin rpy="0 0 0" xyz="0 0 0"/>
      <geometry>
        <mesh filename="package://talos_description/meshes/gripper/inner_double.dae" scale="1 1 1"/>
      </geometry>
      <material name="Orange"/>
    </visual>
    <collision>
      <origin rpy="0 0 0" xyz="0 0 0"/>
      <geometry>
        <mesh filename="package://talos_description/meshes/gripper/inner_double_collision.dae" scale="1 1 1"/>
      </geometry>
    </collision>
  </link>
  <joint name="gripper_left_inner_double_joint" type="revolute">
    <parent link="gripper_left_base_link"/>
    <child link="gripper_left_inner_double_link"/>
    <origin rpy="0.0 0.0 0.0" xyz="0.00000 0.00525 -0.05598"/>
    <axis xyz="1 0 0"/>
    <limit effort="100.0" lower="-1.0471975512" upper="0.0" velocity="1.0"/>
    <mimic joint="gripper_left_joint" multiplier="1.0" offset="0.0"/>
  </joint>
  <link name="gripper_left_fingertip_1_link">
    <inertial>
      <mass value="0.026301"/>
      <inertia ixx="8e-06" ixy="0" ixz="0" iyy="8.69179e-06" iyz="-1.43612e-06" izz="2.3082e-06"/>
      <origin rpy="0 0 0" xyz="0 0.004604 -0.002537"/>
    </inertial>
    <visual>
      <origin rpy="0 0 0" xyz="0 0 0"/>
      <geometry>
        <mesh filename="package://talos_description/meshes/gripper/fingertip.dae" scale="1 1 1"/>
      </geometry>
      <material name="DarkGrey"/>
    </visual>
    <collision>
      <origin rpy="0 0 0" xyz="0 0 0"/>
      <geometry>
        <mesh filename="package://talos_description/meshes/gripper/fingertip_collision.dae" scale="1 1 1"/>
      </geometry>
    </collision>
  </link>
  <joint name="gripper_left_fingertip_1_joint" type="revolute">
    <parent link="gripper_left_inner_double_link"/>
    <child link="gripper_left_fingertip_1_link"/>
    <origin rpy="0.0 0.0 0.0" xyz="0.03200 0.04589 -0.06553"/>
    <axis xyz="1 0 0"/>
    <limit effort="100.0" lower="0.0" upper="1.0471975512" velocity="1.0"/>
    <mimic joint="gripper_left_joint" multiplier="-1.0" offset="0.0"/>
  </joint>
  <link name="gripper_left_fingertip_2_link">
    <inertial>
      <mass value="0.026301"/>
      <inertia ixx="8e-06" ixy="0" ixz="0" iyy="8.69179e-06" iyz="-1.43612e-06" izz="2.3082e-06"/>
      <origin rpy="0 0 0" xyz="0 0.004604 -0.002537"/>
    </inertial>
    <visual>
      <origin rpy="0 0 0" xyz="0 0 0"/>
      <geometry>
        <mesh filename="package://talos_description/meshes/gripper/fingertip.dae" scale="1 1 1"/>
      </geometry>
      <material name="DarkGrey"/>
    </visual>
    <collision>
      <origin rpy="0 0 0" xyz="0 0 0"/>
      <geometry>
        <mesh filename="package://talos_description/meshes/gripper/fingertip_collision.dae" scale="1 1 1"/>
      </geometry>
    </collision>
  </link>
  <joint name="gripper_left_fingertip_2_joint" type="revolute">
    <parent link="gripper_left_inner_double_link"/>
    <child link="gripper_left_fingertip_2_link"/>
    <origin rpy="0.0 0.0 0.0" xyz="-0.03200 0.04589 -0.06553"/>
    <axis xyz="1 0 0"/>
    <limit effort="100.0" lower="0.0" upper="1.0471975512" velocity="1.0"/>
    <mimic joint="gripper_left_joint" multiplier="-1.0" offset="0.0"/>
  </joint>
  <link name="gripper_left_motor_single_link">
    <inertial>
      <mass value="0.107923"/>
      <inertia ixx="8.973662e-05" ixy="-4.082027e-05" ixz="-1.927099e-05" iyy="0.00011957255" iyz="-2.873284e-05" izz="0.00015469079"/>
      <origin rpy="0 0 0" xyz="0.025237 -0.011231 -0.008158"/>
    </inertial>
    <visual>
      <origin rpy="0 0 0" xyz="0 0 0"/>
      <geometry>
        <mesh filename="package://talos_description/meshes/gripper/gripper_motor_single.dae" scale="1 1 1"/>
      </geometry>
      <material name="Orange"/>
    </visual>
    <collision>
      <origin rpy="0 0 0" xyz="0 0 0"/>
      <geometry>
        <mesh filename="package://talos_description/meshes/gripper/gripper_motor_single_collision.dae" scale="1 1 1"/>
      </geometry>
    </collision>
  </link>
  <joint name="gripper_left_motor_single_joint" type="revolute">
    <parent link="gripper_left_base_link"/>
    <child link="gripper_left_motor_single_link"/>
    <origin rpy="0.0 0.0 0.0" xyz="0.00000 -0.02025 -0.03000"/>
    <axis xyz="1 0 0"/>
    <limit effort="100.0" lower="0.0" upper="1.0471975512" velocity="1.0"/>
    <mimic joint="gripper_left_joint" multiplier="-1.0" offset="0.0"/>
  </joint>
  <link name="gripper_left_inner_single_link">
    <inertial>
      <mass value="0.047177"/>
      <inertia ixx="4.199818e-05" ixy="1.3418e-07" ixz="1.9358e-07" iyy="3.231338e-05" iyz="-1.509136e-05" izz="2.168842e-05"/>
      <origin rpy="0 0 0" xyz="0 -0.034565 -0.021412"/>
    </inertial>
    <visual>
      <origin rpy="0 0 0" xyz="0 0 0"/>
      <geometry>
        <mesh filename="package://talos_description/meshes/gripper/inner_single.dae" scale="1 1 1"/>
      </geometry>
      <material name="Orange"/>
    </visual>
    <collision>
      <origin rpy="0 0 0" xyz="0 0 0"/>
      <geometry>
        <mesh filename="package://talos_description/meshes/gripper/inner_single_collision.dae" scale="1 1 1"/>
      </geometry>
    </collision>
  </link>
  <joint name="gripper_left_inner_single_joint" type="revolute">
    <parent link="gripper_left_base_link"/>
    <child link="gripper_left_inner_single_link"/>
    <origin rpy="0.0 0.0 0.0" xyz="0.00000 -0.00525 -0.05598"/>
    <axis xyz="1 0 0"/>
    <limit effort="100.0" lower="0.0" upper="1.0471975512" velocity="1.0"/>
    <mimic joint="gripper_left_joint" multiplier="-1.0" offset="0.0"/>
  </joint>
  <link name="gripper_left_fingertip_3_link">
    <inertial>
      <mass value="0.026301"/>
      <inertia ixx="8e-06" ixy="0" ixz="0" iyy="8.69179e-06" iyz="-1.43612e-06" izz="2.3082e-06"/>
      <origin rpy="0 0 0" xyz="0 0.004604 -0.002537"/>
    </inertial>
    <visual>
      <origin rpy="0 0 0" xyz="0 0 0"/>
      <geometry>
        <mesh filename="package://talos_description/meshes/gripper/fingertip.dae" scale="1 1 1"/>
      </geometry>
      <material name="DarkGrey"/>
    </visual>
    <collision>
      <origin rpy="0 0 0" xyz="0 0 0"/>
      <geometry>
        <mesh filename="package://talos_description/meshes/gripper/fingertip_collision.dae" scale="1 1 1"/>
      </geometry>
    </collision>
  </link>
  <joint name="gripper_left_fingertip_3_joint" type="revolute">
    <parent link="gripper_left_inner_single_link"/>
    <child link="gripper_left_fingertip_3_link"/>
    <origin rpy="0.0 0.0 3.14159265359" xyz="0.00000 -0.04589 -0.06553"/>
    <axis xyz="1 0 0"/>
    <limit effort="100.0" lower="0.0" upper="1.0471975512" velocity="1.0"/>
    <mimic joint="gripper_left_joint" multiplier="-1.0" offset="0.0"/>
  </joint>
  <!-- virtual mimic joints -->
  <!--         <xacro:gripper_virtual_transmission name="${name}_inner_double" reduction="1.0"/>
        <xacro:gripper_virtual_transmission name="${name}_fingertip_1" reduction="1.0"/>
        <xacro:gripper_virtual_transmission name="${name}_fingertip_2" reduction="1.0"/>
        <xacro:gripper_virtual_transmission name="${name}_inner_single" reduction="1.0"/>
        <xacro:gripper_virtual_transmission name="${name}_motor_single" reduction="1.0"/>
        <xacro:gripper_virtual_transmission name="${name}_fingertip_3" reduction="1.0"/> -->
  <link name="gripper_right_base_link">
    <inertial>
      <mass value="0.637534"/>
      <inertia ixx="0.0005849692" ixy="4.37159e-06" ixz="-1.2589e-05" iyy="0.00067076439" iyz="2.824361e-05" izz="0.00085526645"/>
      <origin rpy="0 0 0" xyz="2.8e-05 0.005394 -0.023654"/>
    </inertial>
    <visual>
      <origin rpy="0 0 0" xyz="0 0 0"/>
      <geometry>
        <mesh filename="package://talos_description/meshes/gripper/base_link.dae" scale="1 1 1"/>
      </geometry>
      <material name="DarkGrey"/>
    </visual>
    <collision>
      <origin rpy="0 0 0" xyz="0 0 0"/>
      <geometry>
        <mesh filename="package://talos_description/meshes/gripper/base_link_collision.dae" scale="1 1 1"/>
      </geometry>
    </collision>
  </link>
  <joint name="gripper_right_base_link_joint" type="fixed">
    <parent link="wrist_right_ft_tool_link"/>
    <child link="gripper_right_base_link"/>
    <origin rpy="0.0 0.0 0.0" xyz="0.00000 0.00000 -0.02875"/>
  </joint>
  <link name="gripper_right_motor_double_link">
    <inertial>
      <mass value="0.134356"/>
      <inertia ixx="0.00013479919" ixy="6.184429e-05" ixz="-3.0798e-05" iyy="0.00019602207" iyz="4.707722e-05" izz="0.00024217879"/>
      <origin rpy="0 0 0" xyz="0.019654 0.018572 -0.011998"/>
    </inertial>
    <visual>
      <origin rpy="0 0 0" xyz="0 0 0"/>
      <geometry>
        <mesh filename="package://talos_description/meshes/gripper/gripper_motor_double.dae" scale="1 1 1"/>
      </geometry>
      <material name="Orange"/>
    </visual>
    <collision>
      <origin rpy="0 0 0" xyz="0 0 0"/>
      <geometry>
        <mesh filename="package://talos_description/meshes/gripper/gripper_motor_double_collision.dae" scale="1 1 1"/>
      </geometry>
    </collision>
  </link>
  <joint name="gripper_right_joint" type="revolute">
    <parent link="gripper_right_base_link"/>
    <child link="gripper_right_motor_double_link"/>
    <origin rpy="0.0 0.0 0.0" xyz="0.0 0.02025 -0.03"/>
    <axis xyz="1 0 0"/>
    <limit effort="1.0" lower="-0.959931088597" upper="0.0" velocity="1.0"/>
    <dynamics damping="1.0" friction="1.0"/>
  </joint>
  <link name="gripper_right_inner_double_link">
    <inertial>
      <mass value="0.087986"/>
      <inertia ixx="7.410642e-05" ixy="-7.4773e-07" ixz="1.01536e-06" iyy="0.0001279418" iyz="2.504083e-05" izz="0.00010495175"/>
      <origin rpy="0 0 0" xyz="-0.013283 0.036852 -0.023153"/>
    </inertial>
    <visual>
      <origin rpy="0 0 0" xyz="0 0 0"/>
      <geometry>
        <mesh filename="package://talos_description/meshes/gripper/inner_double.dae" scale="1 1 1"/>
      </geometry>
      <material name="Orange"/>
    </visual>
    <collision>
      <origin rpy="0 0 0" xyz="0 0 0"/>
      <geometry>
        <mesh filename="package://talos_description/meshes/gripper/inner_double_collision.dae" scale="1 1 1"/>
      </geometry>
    </collision>
  </link>
  <joint name="gripper_right_inner_double_joint" type="revolute">
    <parent link="gripper_right_base_link"/>
    <child link="gripper_right_inner_double_link"/>
    <origin rpy="0.0 0.0 0.0" xyz="0.00000 0.00525 -0.05598"/>
    <axis xyz="1 0 0"/>
    <limit effort="100.0" lower="-1.0471975512" upper="0.0" velocity="1.0"/>
    <mimic joint="gripper_right_joint" multiplier="1.0" offset="0.0"/>
  </joint>
  <link name="gripper_right_fingertip_1_link">
    <inertial>
      <mass value="0.026301"/>
      <inertia ixx="8e-06" ixy="0" ixz="0" iyy="8.69179e-06" iyz="-1.43612e-06" izz="2.3082e-06"/>
      <origin rpy="0 0 0" xyz="0 0.004604 -0.002537"/>
    </inertial>
    <visual>
      <origin rpy="0 0 0" xyz="0 0 0"/>
      <geometry>
        <mesh filename="package://talos_description/meshes/gripper/fingertip.dae" scale="1 1 1"/>
      </geometry>
      <material name="DarkGrey"/>
    </visual>
    <collision>
      <origin rpy="0 0 0" xyz="0 0 0"/>
      <geometry>
        <mesh filename="package://talos_description/meshes/gripper/fingertip_collision.dae" scale="1 1 1"/>
      </geometry>
    </collision>
  </link>
  <joint name="gripper_right_fingertip_1_joint" type="revolute">
    <parent link="gripper_right_inner_double_link"/>
    <child link="gripper_right_fingertip_1_link"/>
    <origin rpy="0.0 0.0 0.0" xyz="0.03200 0.04589 -0.06553"/>
    <axis xyz="1 0 0"/>
    <limit effort="100.0" lower="0.0" upper="1.0471975512" velocity="1.0"/>
    <mimic joint="gripper_right_joint" multiplier="-1.0" offset="0.0"/>
  </joint>
  <link name="gripper_right_fingertip_2_link">
    <inertial>
      <mass value="0.026301"/>
      <inertia ixx="8e-06" ixy="0" ixz="0" iyy="8.69179e-06" iyz="-1.43612e-06" izz="2.3082e-06"/>
      <origin rpy="0 0 0" xyz="0 0.004604 -0.002537"/>
    </inertial>
    <visual>
      <origin rpy="0 0 0" xyz="0 0 0"/>
      <geometry>
        <mesh filename="package://talos_description/meshes/gripper/fingertip.dae" scale="1 1 1"/>
      </geometry>
      <material name="DarkGrey"/>
    </visual>
    <collision>
      <origin rpy="0 0 0" xyz="0 0 0"/>
      <geometry>
        <mesh filename="package://talos_description/meshes/gripper/fingertip_collision.dae" scale="1 1 1"/>
      </geometry>
    </collision>
  </link>
  <joint name="gripper_right_fingertip_2_joint" type="revolute">
    <parent link="gripper_right_inner_double_link"/>
    <child link="gripper_right_fingertip_2_link"/>
    <origin rpy="0.0 0.0 0.0" xyz="-0.03200 0.04589 -0.06553"/>
    <axis xyz="1 0 0"/>
    <limit effort="100.0" lower="0.0" upper="1.0471975512" velocity="1.0"/>
    <mimic joint="gripper_right_joint" multiplier="-1.0" offset="0.0"/>
  </joint>
  <link name="gripper_right_motor_single_link">
    <inertial>
      <mass value="0.107923"/>
      <inertia ixx="8.973662e-05" ixy="-4.082027e-05" ixz="-1.927099e-05" iyy="0.00011957255" iyz="-2.873284e-05" izz="0.00015469079"/>
      <origin rpy="0 0 0" xyz="0.025237 -0.011231 -0.008158"/>
    </inertial>
    <visual>
      <origin rpy="0 0 0" xyz="0 0 0"/>
      <geometry>
        <mesh filename="package://talos_description/meshes/gripper/gripper_motor_single.dae" scale="1 1 1"/>
      </geometry>
      <material name="Orange"/>
    </visual>
    <collision>
      <origin rpy="0 0 0" xyz="0 0 0"/>
      <geometry>
        <mesh filename="package://talos_description/meshes/gripper/gripper_motor_single_collision.dae" scale="1 1 1"/>
      </geometry>
    </collision>
  </link>
  <joint name="gripper_right_motor_single_joint" type="revolute">
    <parent link="gripper_right_base_link"/>
    <child link="gripper_right_motor_single_link"/>
    <origin rpy="0.0 0.0 0.0" xyz="0.00000 -0.02025 -0.03000"/>
    <axis xyz="1 0 0"/>
    <limit effort="100.0" lower="0.0" upper="1.0471975512" velocity="1.0"/>
    <mimic joint="gripper_right_joint" multiplier="-1.0" offset="0.0"/>
  </joint>
  <link name="gripper_right_inner_single_link">
    <inertial>
      <mass value="0.047177"/>
      <inertia ixx="4.199818e-05" ixy="1.3418e-07" ixz="1.9358e-07" iyy="3.231338e-05" iyz="-1.509136e-05" izz="2.168842e-05"/>
      <origin rpy="0 0 0" xyz="0 -0.034565 -0.021412"/>
    </inertial>
    <visual>
      <origin rpy="0 0 0" xyz="0 0 0"/>
      <geometry>
        <mesh filename="package://talos_description/meshes/gripper/inner_single.dae" scale="1 1 1"/>
      </geometry>
      <material name="Orange"/>
    </visual>
    <collision>
      <origin rpy="0 0 0" xyz="0 0 0"/>
      <geometry>
        <mesh filename="package://talos_description/meshes/gripper/inner_single_collision.dae" scale="1 1 1"/>
      </geometry>
    </collision>
  </link>
  <joint name="gripper_right_inner_single_joint" type="revolute">
    <parent link="gripper_right_base_link"/>
    <child link="gripper_right_inner_single_link"/>
    <origin rpy="0.0 0.0 0.0" xyz="0.00000 -0.00525 -0.05598"/>
    <axis xyz="1 0 0"/>
    <limit effort="100.0" lower="0.0" upper="1.0471975512" velocity="1.0"/>
    <mimic joint="gripper_right_joint" multiplier="-1.0" offset="0.0"/>
  </joint>
  <link name="gripper_right_fingertip_3_link">
    <inertial>
      <mass value="0.026301"/>
      <inertia ixx="8e-06" ixy="0" ixz="0" iyy="8.69179e-06" iyz="-1.43612e-06" izz="2.3082e-06"/>
      <origin rpy="0 0 0" xyz="0 0.004604 -0.002537"/>
    </inertial>
    <visual>
      <origin rpy="0 0 0" xyz="0 0 0"/>
      <geometry>
        <mesh filename="package://talos_description/meshes/gripper/fingertip.dae" scale="1 1 1"/>
      </geometry>
      <material name="DarkGrey"/>
    </visual>
    <collision>
      <origin rpy="0 0 0" xyz="0 0 0"/>
      <geometry>
        <mesh filename="package://talos_description/meshes/gripper/fingertip_collision.dae" scale="1 1 1"/>
      </geometry>
    </collision>
  </link>
  <joint name="gripper_right_fingertip_3_joint" type="revolute">
    <parent link="gripper_right_inner_single_link"/>
    <child link="gripper_right_fingertip_3_link"/>
    <origin rpy="0.0 0.0 3.14159265359" xyz="0.00000 -0.04589 -0.06553"/>
    <axis xyz="1 0 0"/>
    <limit effort="100.0" lower="0.0" upper="1.0471975512" velocity="1.0"/>
    <mimic joint="gripper_right_joint" multiplier="-1.0" offset="0.0"/>
  </joint>
  <!-- virtual mimic joints -->
  <!--         <xacro:gripper_virtual_transmission name="${name}_inner_double" reduction="1.0"/>
        <xacro:gripper_virtual_transmission name="${name}_fingertip_1" reduction="1.0"/>
        <xacro:gripper_virtual_transmission name="${name}_fingertip_2" reduction="1.0"/>
        <xacro:gripper_virtual_transmission name="${name}_inner_single" reduction="1.0"/>
        <xacro:gripper_virtual_transmission name="${name}_motor_single" reduction="1.0"/>
        <xacro:gripper_virtual_transmission name="${name}_fingertip_3" reduction="1.0"/> -->
  <!-- Joint hip_z (mesh link) : child link hip_x -> parent link base_link -->
  <link name="leg_left_1_link">
    <inertial>
      <mass value="1.845591"/>
      <inertia ixx="0.00541533521" ixy="-0.00015428714" ixz="0.00131612622" iyy="0.00848624936" iyz="-1.906103e-05" izz="0.00474512541"/>
      <origin rpy="0 0 0" xyz="0.02247868 0.00106736 0.03130665"/>
    </inertial>
    <visual>
      <origin rpy="0 0 0" xyz="0 0 0"/>
      <geometry>
        <mesh filename="package://talos_description/meshes/v2/hip_z_lo_res.dae" scale="1 1 1"/>
      </geometry>
      <material name="DarkGrey"/>
    </visual>
    <collision>
      <origin rpy="0 0 0" xyz="0 0 0"/>
      <geometry>
        <mesh filename="package://talos_description/meshes/v2/hip_z_collision.dae" scale="1 1 1"/>
      </geometry>
    </collision>
  </link>
  <joint name="leg_left_1_joint" type="revolute">
    <parent link="base_link"/>
    <child link="leg_left_1_link"/>
    <origin rpy="0.0 0.0 0.0" xyz="-0.02 0.085 -0.27105"/>
    <axis xyz="0 0 1"/>
    <limit effort="100" lower="-0.349065850399" upper="1.57079632679" velocity="3.87"/>
    <dynamics damping="0.0" friction="0.0"/>
  </joint>
  <!-- Joint hip_x (mesh link) : child link hip_y -> parent link hip_z -->
  <link name="leg_left_2_link">
    <inertial>
      <mass value="1.490952"/>
      <inertia ixx="0.00497152259" ixy="-0.0001311358" ixz="-4.86648e-06" iyy="0.00190550993" iyz="4.585381e-05" izz="0.00474289754"/>
      <origin rpy="0 0 0" xyz="-0.00704703 0.02592659 0.00273385"/>
    </inertial>
    <visual>
      <origin rpy="0  0  0" xyz="0 0 0.0"/>
      <geometry>
        <mesh filename="package://talos_description/meshes/v2/hip_x_lo_res.dae" scale="1 1 1"/>
      </geometry>
      <material name="DarkGrey"/>
    </visual>
    <collision>
      <origin rpy="0  0  0" xyz="0 0 0.0"/>
      <geometry>
        <mesh filename="package://talos_description/meshes/v2/hip_x_collision.dae" scale="1 1 1"/>
      </geometry>
    </collision>
  </link>
  <joint name="leg_left_2_joint" type="revolute">
    <parent link="leg_left_1_link"/>
    <child link="leg_left_2_link"/>
    <origin rpy="0.0 0.0 0.0" xyz="0.00000 0.00000 0.00000"/>
    <axis xyz="1 0 0"/>
    <limit effort="160" lower="-0.5236" upper="0.5236" velocity="5.8"/>
    <dynamics damping="0.0" friction="0.0"/>
  </joint>
  <!-- Joint hip_y (mesh link) : child link knee -> parent link hip_x -->
  <link name="leg_left_3_link">
    <inertial>
      <mass value="6.239871"/>
      <inertia ixx="0.15337403915" ixy="0.00068913396" ixz="0.00168034366" iyy="0.13648139346" iyz="-0.02187635445" izz="0.03001594885"/>
      <origin rpy="0 0 0" xyz="0.0058523 0.0636967 -0.18339564"/>
    </inertial>
    <visual>
      <origin rpy="0 0 0" xyz="0 0 0"/>
      <geometry>
        <mesh filename="package://talos_description/meshes/v2/hip_y_lo_res.dae" scale="1 1 1"/>
      </geometry>
      <material name="DarkGrey"/>
    </visual>
    <collision>
      <origin rpy="0 0 0" xyz="0 0 0"/>
      <geometry>
        <mesh filename="package://talos_description/meshes/v2/hip_y_collision.dae" scale="1 1 1"/>
      </geometry>
    </collision>
  </link>
  <joint name="leg_left_3_joint" type="revolute">
    <parent link="leg_left_2_link"/>
    <child link="leg_left_3_link"/>
    <origin rpy="0.0 0.0 0.0" xyz="0.00000 0.00000 0.00000"/>
    <axis xyz="0 1 0"/>
    <limit effort="160" lower="-2.095" upper="0.7" velocity="5.8"/>
    <dynamics damping="0.0" friction="0.0"/>
  </joint>
  <!-- Joint knee (mesh link) : child link ankle_y -> parent link hip_y -->
  <link name="leg_left_4_link">
    <inertial>
      <mass value="3.759951"/>
      <inertia ixx="0.04287677484" ixy="0.00043705397" ixz="0.00078292368" iyy="0.03598906971" iyz="0.00037717694" izz="0.01364791564"/>
      <origin rpy="0 0 0" xyz="0.01317717 0.02917508 -0.11594602"/>
    </inertial>
    <visual>
      <origin rpy="0 0 0" xyz="0 0 0"/>
      <geometry>
        <mesh filename="package://talos_description/meshes/v2/knee_lo_res.dae" scale="1 1 1"/>
      </geometry>
      <material name="DarkGrey"/>
    </visual>
    <collision>
      <origin rpy="0 0 0" xyz="0 0 0"/>
      <geometry>
        <mesh filename="package://talos_description/meshes/v2/knee_collision.dae" scale="1 1 1"/>
      </geometry>
    </collision>
  </link>
  <joint name="leg_left_4_joint" type="revolute">
    <parent link="leg_left_3_link"/>
    <child link="leg_left_4_link"/>
    <origin rpy="0.0 0.0 0.0" xyz="0.00000 0.00000 -0.38000"/>
    <axis xyz="0 1 0"/>
    <limit effort="400" lower="0" upper="2.618" velocity="7"/>
    <dynamics damping="0.0" friction="0.0"/>
  </joint>
  <!-- Joint ankle_y (mesh link) : child link ankle_x -> parent link knee -->
  <link name="leg_left_5_link">
    <inertial>
      <mass value="1.29096"/>
      <inertia ixx="0.01143430819" ixy="0.00096978273" ixz="0.00039976581" iyy="0.00888974312" iyz="-0.00277808667" izz="0.00506373875"/>
      <origin rpy="0 0 0" xyz="-0.01400838 0.04180064 0.03820186"/>
    </inertial>
    <visual>
      <origin rpy="0 0 0" xyz="0 0 0.0"/>
      <geometry>
        <mesh filename="package://talos_description/meshes/v2/ankle_Y_lo_res.dae" scale="1 1 1"/>
      </geometry>
      <material name="White"/>
    </visual>
    <collision>
      <origin rpy="0 0 0" xyz="0 0 0.0"/>
      <geometry>
        <mesh filename="package://talos_description/meshes/v2/ankle_Y_collision.dae" scale="1 1 1"/>
      </geometry>
    </collision>
  </link>
  <joint name="leg_left_5_joint" type="revolute">
    <parent link="leg_left_4_link"/>
    <child link="leg_left_5_link"/>
    <origin rpy="0.0 0.0 0.0" xyz="0.00000 0.00000 -0.32500"/>
    <axis xyz="0 1 0"/>
    <limit effort="160" lower="-1.27" upper="0.68" velocity="5.8"/>
    <dynamics damping="0.0" friction="0.0"/>
  </joint>
  <!-- Joint ankle_x (mesh link) : child link None -> parent link ankle_y -->
  <link name="leg_left_6_link">
    <inertial>
      <mass value="1.597773"/>
      <inertia ixx="0.00439027267" ixy="-6.743674e-05" ixz="0.00113816363" iyy="0.00743063029" iyz="3.943143e-05" izz="0.00550906699"/>
      <origin rpy="0 0 0" xyz="-0.02034668 -0.00051514 -0.05987428"/>
    </inertial>
    <visual>
      <origin rpy="0 0 0" xyz="0 0 0"/>
      <geometry>
        <mesh filename="package://talos_description/meshes/v2/ankle_X_lo_res.dae" scale="1 1 1"/>
      </geometry>
      <material name="White"/>
    </visual>
    <collision>
      <origin rpy="0 0 0" xyz="0 0 0"/>
      <geometry>
        <mesh filename="package://talos_description/meshes/v2/ankle_X_collision.dae" scale="1 1 1"/>
      </geometry>
    </collision>
  </link>
  <joint name="leg_left_6_joint" type="revolute">
    <parent link="leg_left_5_link"/>
    <child link="leg_left_6_link"/>
    <origin rpy="0.0 0.0 0.0" xyz="0.00000 0.00000 0.00000"/>
    <axis xyz="1 0 0"/>
    <limit effort="100" lower="-0.5236" upper="0.5236" velocity="4.8"/>
    <dynamics damping="0.0" friction="0.0"/>
  </joint>
  <!-- from here is copy paste -->
  <link name="left_sole_link">
    <inertial>
      <mass value="0.01"/>
      <inertia ixx="0.0001" ixy="0" ixz="0" iyy="0.0001" iyz="0" izz="0.0001"/>
      <origin rpy="0 0 0" xyz="0 0 0"/>
    </inertial>
  </link>
  <joint name="leg_left_sole_fix_joint" type="fixed">
    <parent link="leg_left_6_link"/>
    <child link="left_sole_link"/>
    <origin rpy="0 0 0" xyz="0.00 0.00 -0.107"/>
    <axis xyz="1 0 0"/>
    <dynamics damping="0.0" friction="0.0"/>
  </joint>
  <!-- Joint hip_z (mesh link) : child link hip_x -> parent link base_link -->
  <link name="leg_right_1_link">
    <inertial>
      <mass value="1.845591"/>
      <inertia ixx="0.00541533521" ixy="0.00015428714" ixz="0.00131612622" iyy="0.00848624936" iyz="1.906103e-05" izz="0.00474512541"/>
      <origin rpy="0 0 0" xyz="0.02247868 -0.00106736 0.03130665"/>
    </inertial>
    <visual>
      <origin rpy="0 0 0" xyz="0 0 0"/>
      <geometry>
        <mesh filename="package://talos_description/meshes/v2/hip_z_lo_res.dae" scale="1 -1 1"/>
      </geometry>
      <material name="DarkGrey"/>
    </visual>
    <collision>
      <origin rpy="0 0 0" xyz="0 0 0"/>
      <geometry>
        <mesh filename="package://talos_description/meshes/v2/hip_z_collision.dae" scale="1 -1 1"/>
      </geometry>
    </collision>
  </link>
  <joint name="leg_right_1_joint" type="revolute">
    <parent link="base_link"/>
    <child link="leg_right_1_link"/>
    <origin rpy="0.0 0.0 0.0" xyz="-0.02 -0.085 -0.27105"/>
    <axis xyz="0 0 1"/>
    <limit effort="100" lower="-1.57079632679" upper="0.349065850399" velocity="3.87"/>
    <dynamics damping="0.0" friction="0.0"/>
  </joint>
  <!-- Joint hip_x (mesh link) : child link hip_y -> parent link hip_z -->
  <link name="leg_right_2_link">
    <inertial>
      <mass value="1.490952"/>
      <inertia ixx="0.00497152259" ixy="0.0001311358" ixz="-4.86648e-06" iyy="0.00190550993" iyz="-4.585381e-05" izz="0.00474289754"/>
      <origin rpy="0 0 0" xyz="-0.00704703 -0.02592659 0.00273385"/>
    </inertial>
    <visual>
      <origin rpy="0  0  0" xyz="0 0 0.0"/>
      <geometry>
        <mesh filename="package://talos_description/meshes/v2/hip_x_lo_res.dae" scale="1 -1 1"/>
      </geometry>
      <material name="DarkGrey"/>
    </visual>
    <collision>
      <origin rpy="0  0  0" xyz="0 0 0.0"/>
      <geometry>
        <mesh filename="package://talos_description/meshes/v2/hip_x_collision.dae" scale="1 -1 1"/>
      </geometry>
    </collision>
  </link>
  <joint name="leg_right_2_joint" type="revolute">
    <parent link="leg_right_1_link"/>
    <child link="leg_right_2_link"/>
    <origin rpy="0.0 0.0 0.0" xyz="0.00000 0.00000 0.00000"/>
    <axis xyz="1 0 0"/>
    <limit effort="160" lower="-0.5236" upper="0.5236" velocity="5.8"/>
    <dynamics damping="0.0" friction="0.0"/>
  </joint>
  <!-- Joint hip_y (mesh link) : child link knee -> parent link hip_x -->
  <link name="leg_right_3_link">
    <inertial>
      <mass value="6.239871"/>
      <inertia ixx="0.15337403915" ixy="-0.00068913396" ixz="0.00168034366" iyy="0.13648139346" iyz="0.02187635445" izz="0.03001594885"/>
      <origin rpy="0 0 0" xyz="0.0058523 -0.0636967 -0.18339564"/>
    </inertial>
    <visual>
      <origin rpy="0 0 0" xyz="0 0 0"/>
      <geometry>
        <mesh filename="package://talos_description/meshes/v2/hip_y_lo_res.dae" scale="1 -1 1"/>
      </geometry>
      <material name="DarkGrey"/>
    </visual>
    <collision>
      <origin rpy="0 0 0" xyz="0 0 0"/>
      <geometry>
        <mesh filename="package://talos_description/meshes/v2/hip_y_collision.dae" scale="1 -1 1"/>
      </geometry>
    </collision>
  </link>
  <joint name="leg_right_3_joint" type="revolute">
    <parent link="leg_right_2_link"/>
    <child link="leg_right_3_link"/>
    <origin rpy="0.0 0.0 0.0" xyz="0.00000 0.00000 0.00000"/>
    <axis xyz="0 1 0"/>
    <limit effort="160" lower="-2.095" upper="0.7" velocity="5.8"/>
    <dynamics damping="0.0" friction="0.0"/>
  </joint>
  <!-- Joint knee (mesh link) : child link ankle_y -> parent link hip_y -->
  <link name="leg_right_4_link">
    <inertial>
      <mass value="3.759951"/>
      <inertia ixx="0.04287677484" ixy="-0.00043705397" ixz="0.00078292368" iyy="0.03598906971" iyz="-0.00037717694" izz="0.01364791564"/>
      <origin rpy="0 0 0" xyz="0.01317717 -0.02917508 -0.11594602"/>
    </inertial>
    <visual>
      <origin rpy="0 0 0" xyz="0 0 0"/>
      <geometry>
        <mesh filename="package://talos_description/meshes/v2/knee_lo_res.dae" scale="1 -1 1"/>
      </geometry>
      <material name="DarkGrey"/>
    </visual>
    <collision>
      <origin rpy="0 0 0" xyz="0 0 0"/>
      <geometry>
        <mesh filename="package://talos_description/meshes/v2/knee_collision.dae" scale="1 -1 1"/>
      </geometry>
    </collision>
  </link>
  <joint name="leg_right_4_joint" type="revolute">
    <parent link="leg_right_3_link"/>
    <child link="leg_right_4_link"/>
    <origin rpy="0.0 0.0 0.0" xyz="0.00000 0.00000 -0.38000"/>
    <axis xyz="0 1 0"/>
    <limit effort="400" lower="0" upper="2.618" velocity="7"/>
    <dynamics damping="0.0" friction="0.0"/>
  </joint>
  <!-- Joint ankle_y (mesh link) : child link ankle_x -> parent link knee -->
  <link name="leg_right_5_link">
    <inertial>
      <mass value="1.29096"/>
      <inertia ixx="0.01143430819" ixy="-0.00096978273" ixz="0.00039976581" iyy="0.00888974312" iyz="0.00277808667" izz="0.00506373875"/>
      <origin rpy="0 0 0" xyz="-0.01400838 -0.04180064 0.03820186"/>
    </inertial>
    <visual>
      <origin rpy="0 0 0" xyz="0 0 0.0"/>
      <geometry>
        <mesh filename="package://talos_description/meshes/v2/ankle_Y_lo_res.dae" scale="1 -1 1"/>
      </geometry>
      <material name="White"/>
    </visual>
    <collision>
      <origin rpy="0 0 0" xyz="0 0 0.0"/>
      <geometry>
        <mesh filename="package://talos_description/meshes/v2/ankle_Y_collision.dae" scale="1 -1 1"/>
      </geometry>
    </collision>
  </link>
  <joint name="leg_right_5_joint" type="revolute">
    <parent link="leg_right_4_link"/>
    <child link="leg_right_5_link"/>
    <origin rpy="0.0 0.0 0.0" xyz="0.00000 0.00000 -0.32500"/>
    <axis xyz="0 1 0"/>
    <limit effort="160" lower="-1.27" upper="0.68" velocity="5.8"/>
    <dynamics damping="0.0" friction="0.0"/>
  </joint>
  <!-- Joint ankle_x (mesh link) : child link None -> parent link ankle_y -->
  <link name="leg_right_6_link">
    <inertial>
      <mass value="1.597773"/>
      <inertia ixx="0.00439027267" ixy="6.743674e-05" ixz="0.00113816363" iyy="0.00743063029" iyz="-3.943143e-05" izz="0.00550906699"/>
      <origin rpy="0 0 0" xyz="-0.02034668 0.00051514 -0.05987428"/>
    </inertial>
    <visual>
      <origin rpy="0 0 0" xyz="0 0 0"/>
      <geometry>
        <mesh filename="package://talos_description/meshes/v2/ankle_X_lo_res.dae" scale="1 -1 1"/>
      </geometry>
      <material name="White"/>
    </visual>
    <collision>
      <origin rpy="0 0 0" xyz="0 0 0"/>
      <geometry>
        <mesh filename="package://talos_description/meshes/v2/ankle_X_collision.dae" scale="1 -1 1"/>
      </geometry>
    </collision>
  </link>
  <joint name="leg_right_6_joint" type="revolute">
    <parent link="leg_right_5_link"/>
    <child link="leg_right_6_link"/>
    <origin rpy="0.0 0.0 0.0" xyz="0.00000 0.00000 0.00000"/>
    <axis xyz="1 0 0"/>
    <limit effort="100" lower="-0.5236" upper="0.5236" velocity="4.8"/>
    <dynamics damping="0.0" friction="0.0"/>
  </joint>
  <!-- from here is copy paste -->
  <link name="right_sole_link">
    <inertial>
      <mass value="0.01"/>
      <inertia ixx="0.0001" ixy="0" ixz="0" iyy="0.0001" iyz="0" izz="0.0001"/>
      <origin rpy="0 0 0" xyz="0 0 0"/>
    </inertial>
  </link>
  <joint name="leg_right_sole_fix_joint" type="fixed">
    <parent link="leg_right_6_link"/>
    <child link="right_sole_link"/>
    <origin rpy="0 0 0" xyz="0.00 0.00 -0.107"/>
    <axis xyz="1 0 0"/>
    <dynamics damping="0.0" friction="0.0"/>
  </joint>
  <material name="Blue">
    <color rgba="0.0 0.0 0.8 1.0"/>
  </material>
  <material name="Green">
    <color rgba="0.0 0.8 0.0 1.0"/>
  </material>
  <material name="Grey">
    <color rgba="0.7 0.7 0.7 1.0"/>
  </material>
  <material name="LightGrey">
    <color rgba="0.9 0.9 0.9 1.0"/>
  </material>
  <material name="DarkGrey">
    <color rgba="0.2 0.2 0.2 1.0"/>
  </material>
  <material name="Red">
    <color rgba="0.8 0.0 0.0 1.0"/>
  </material>
  <material name="White">
    <color rgba="1.0 1.0 1.0 1.0"/>
  </material>
  <material name="Orange">
    <color rgba="1.0 0.5 0.0 1.0"/>
  </material>
  <material name="Black">
    <color rgba="0.0 0.0 0.0 1.0"/>
  </material>
</robot>
